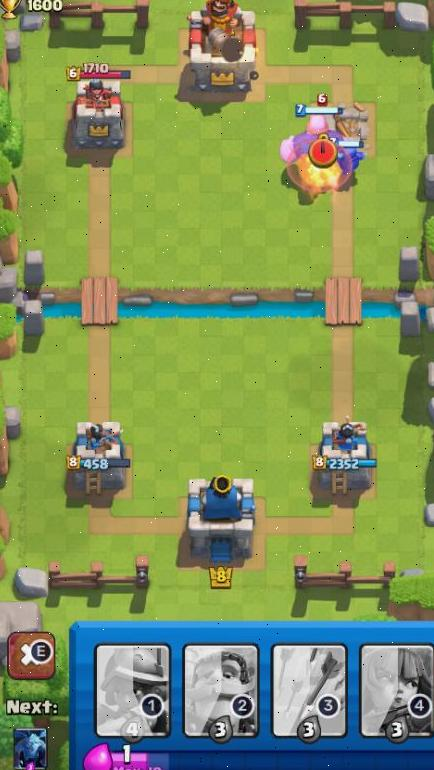player_giant: (277, 103, 349, 171)
player_mini_pekka: (333, 135, 370, 175)
